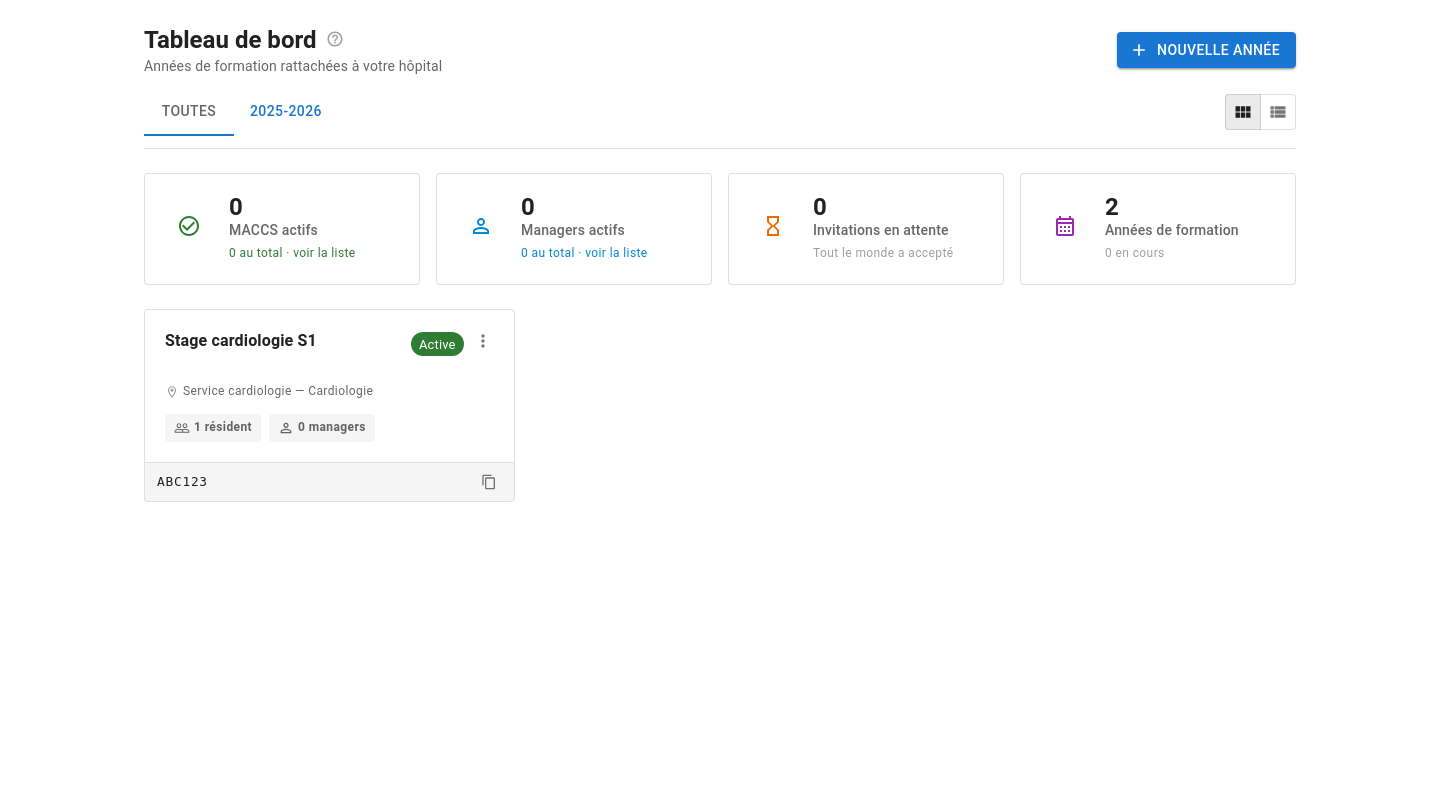
Test case: YearFormDialog — mode édition › pré-remplit le titre avec la valeur existante de l'année
Expected: the heading "Stage cardiologie S1" is shown, [165,331,317,350]
Click the button with test id "year-menu-btn-10" at [483, 341], box [468,326,498,356]
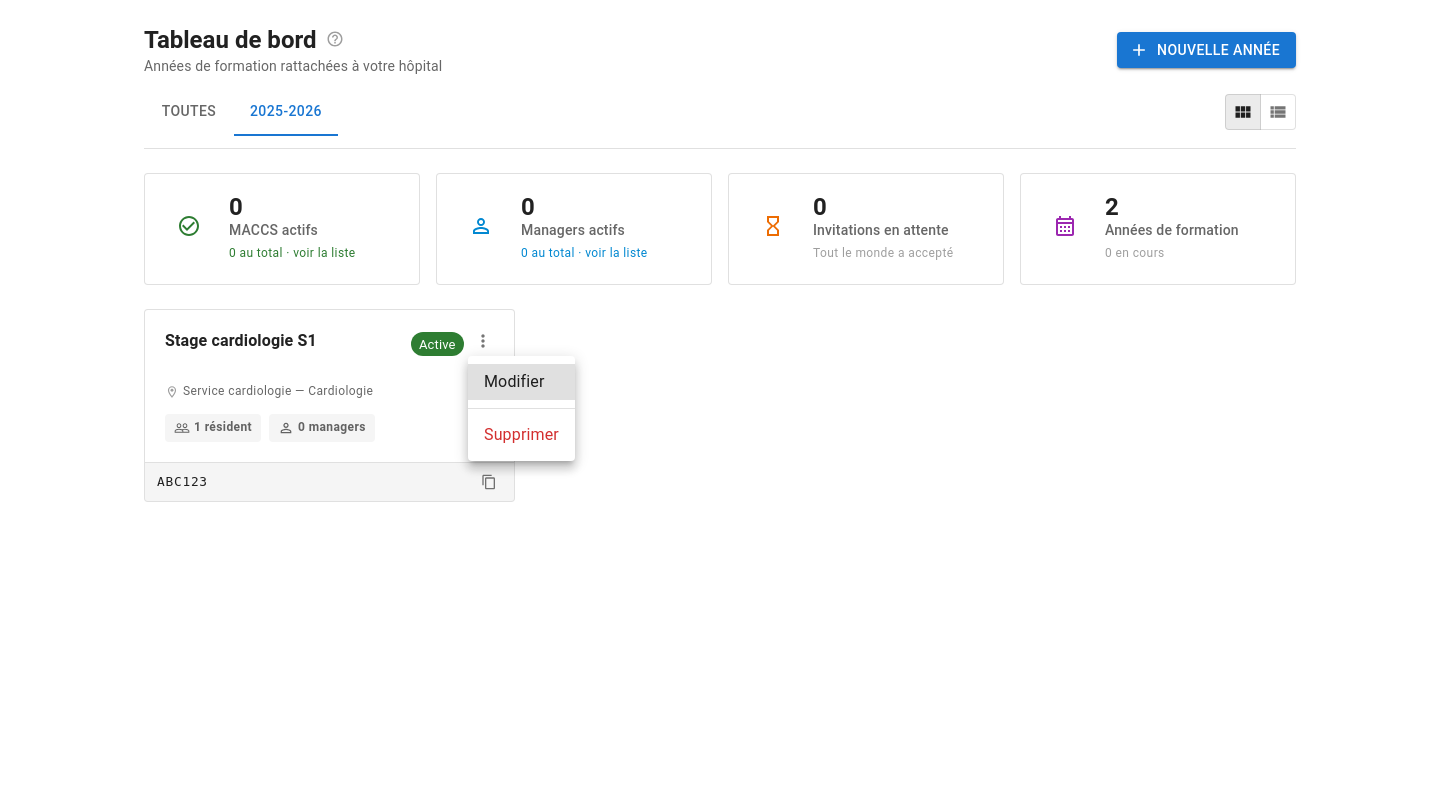
Result: the menu item "Modifier" is shown
Click the menu item "Modifier" at [521, 382], box [468,364,575,400]
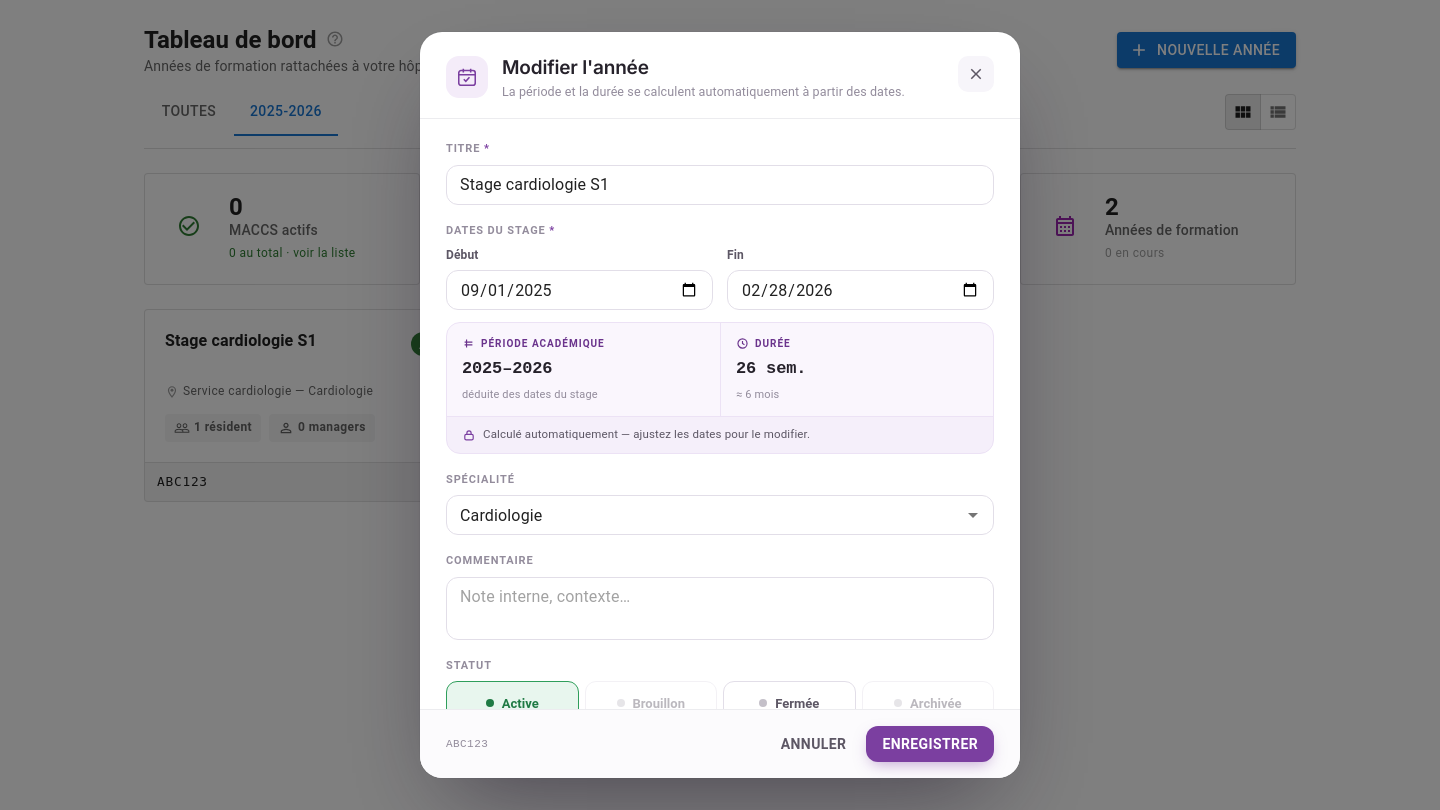
Result: the dialog is shown at [420,32,1020,778]
Result: the field showing "Stage cardiologie S1" is shown at [446,165,994,205]
